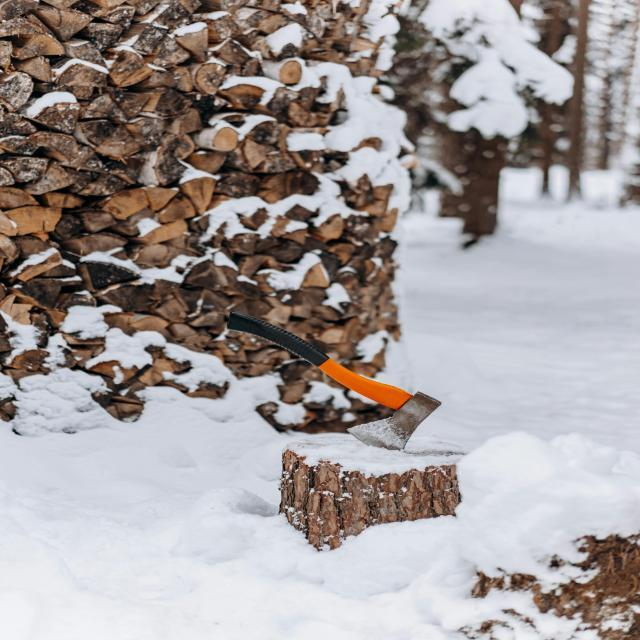Axe: (227, 313, 441, 450)
